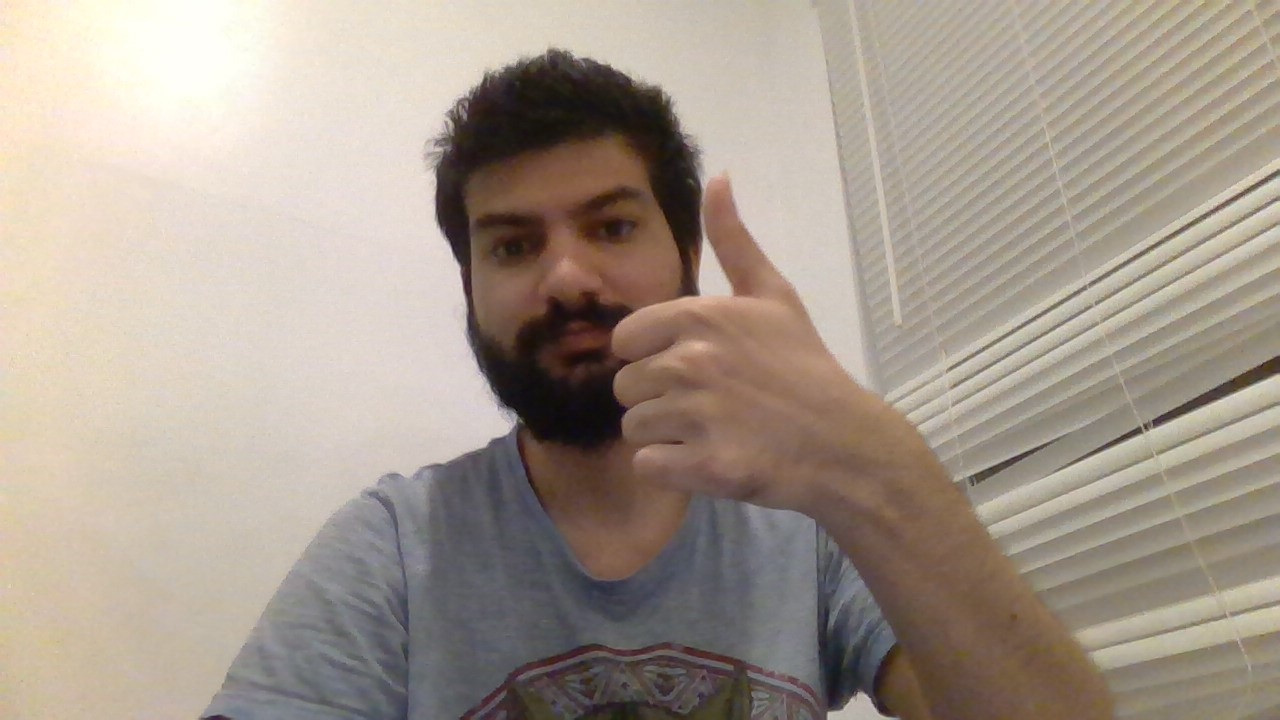up: (603, 177, 812, 508)
